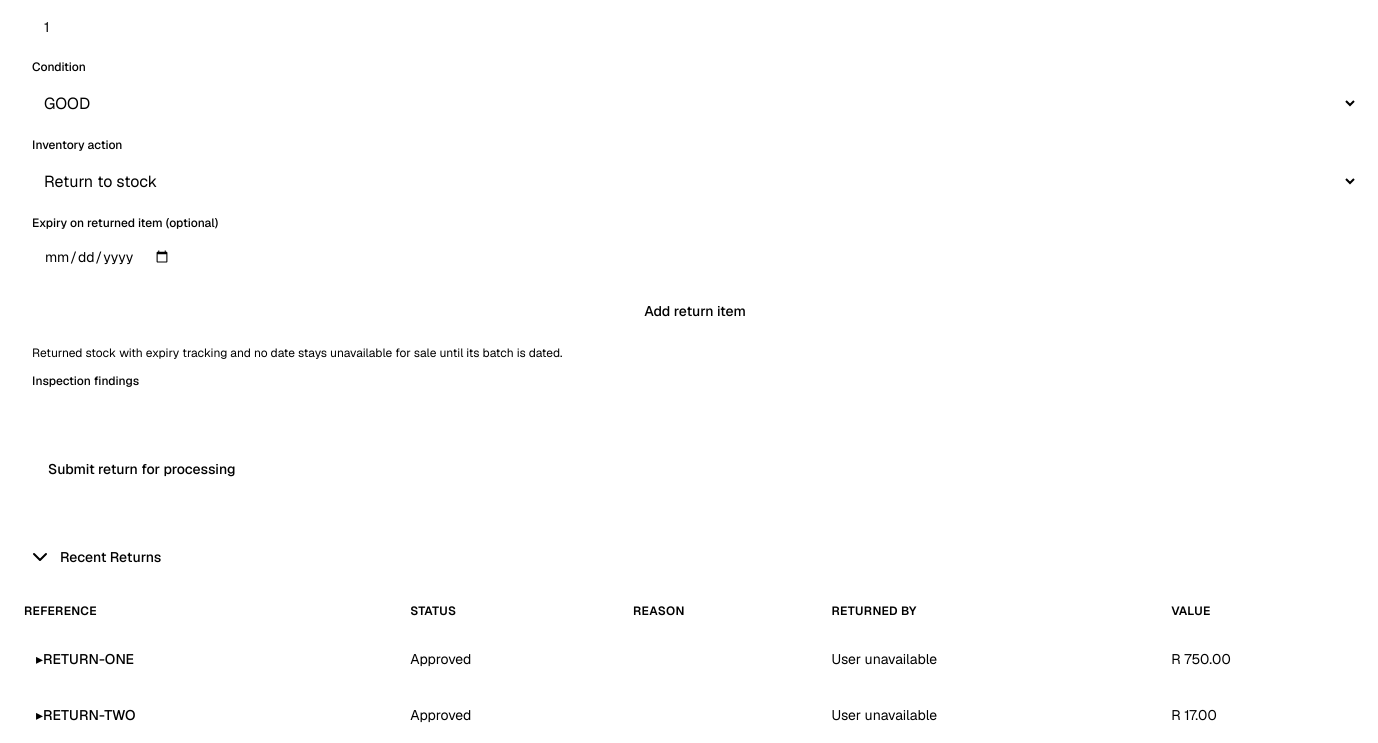
Test case: removes refund entry after full settlement
(page scrolled)
Click the button "▸ RETURN-ONE": (85, 659) x1=24 y1=641 x2=146 y2=677
(page scrolled)
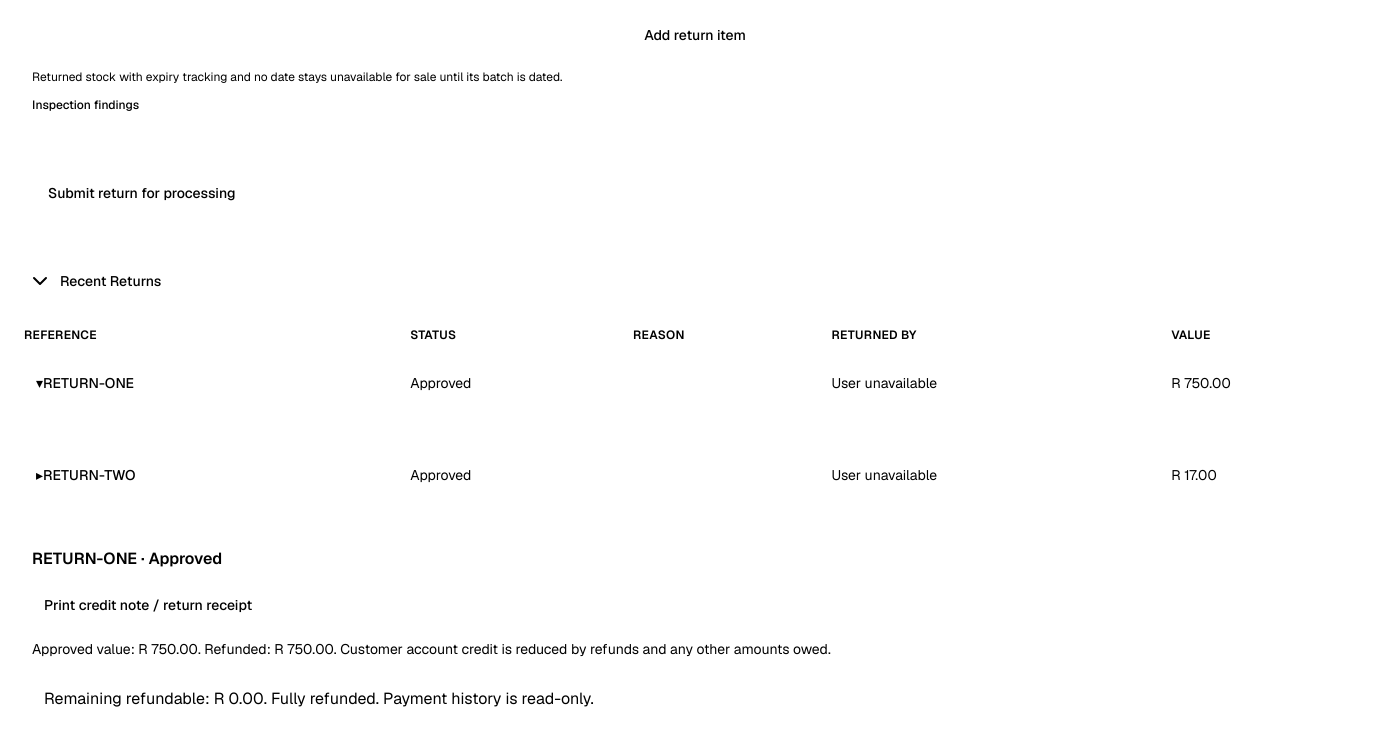
Expected: the text "Fully refunded" is shown, x1=271 y1=688 x2=594 y2=709
